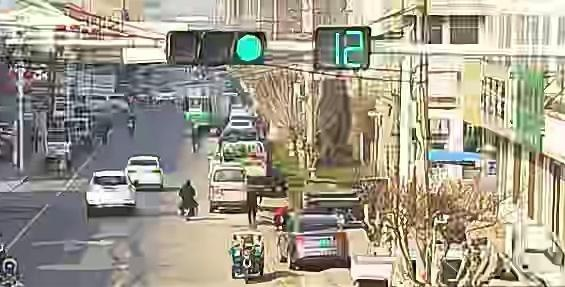green: (235, 33, 266, 63)
greentime: (331, 29, 367, 69)
